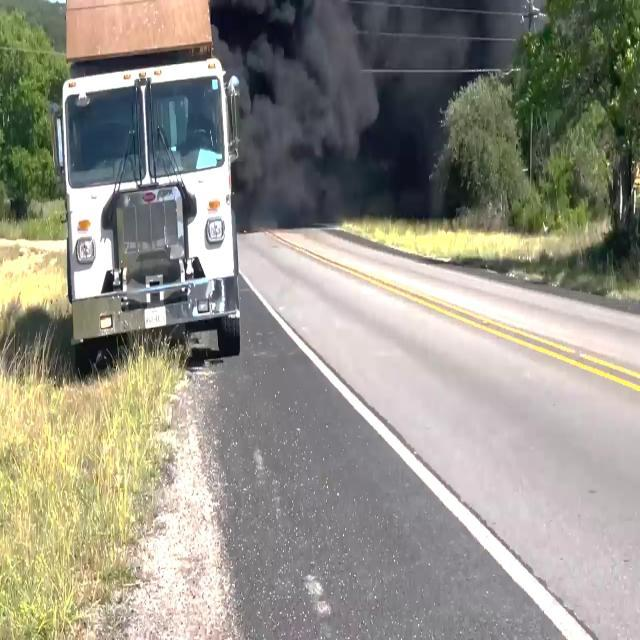Smoke: (225, 0, 488, 221)
